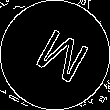M_SW: (23, 22, 87, 88)
